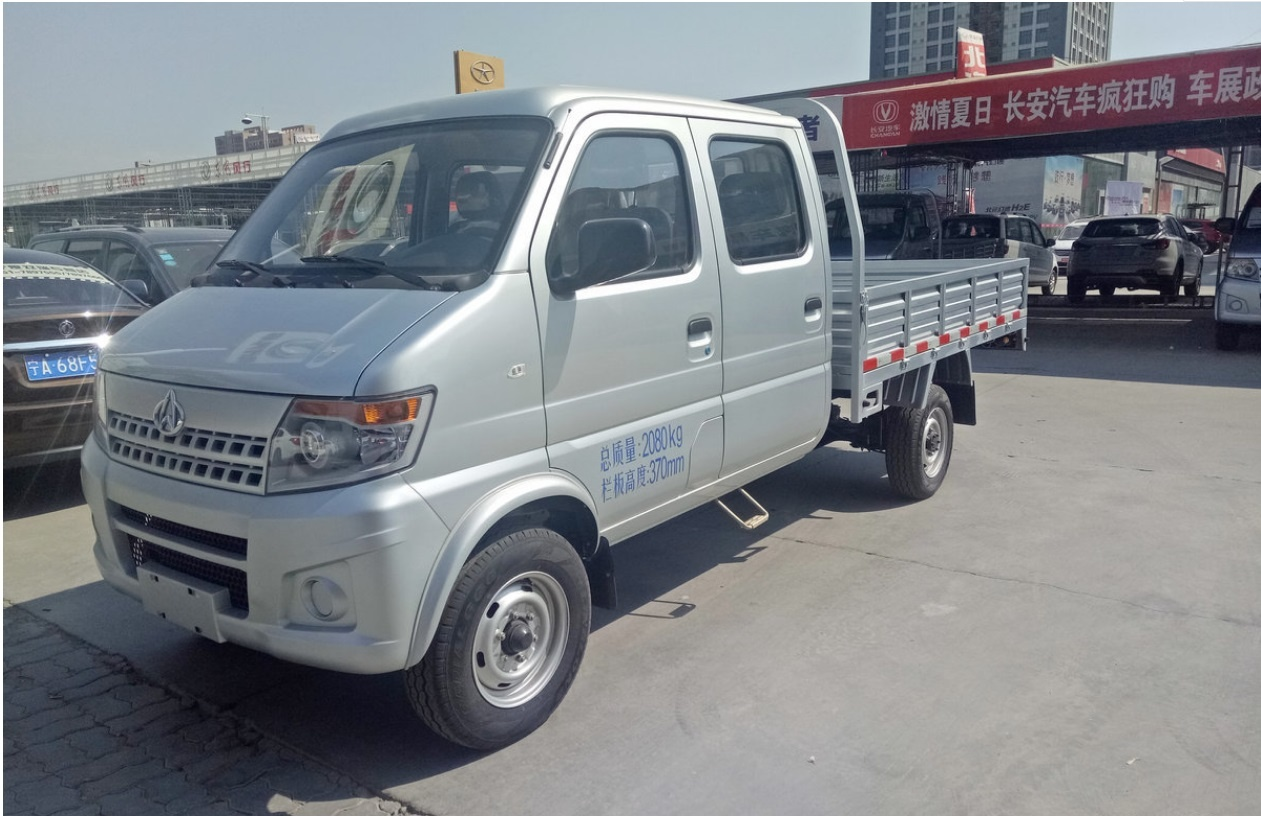truck: (77, 82, 1048, 734)
